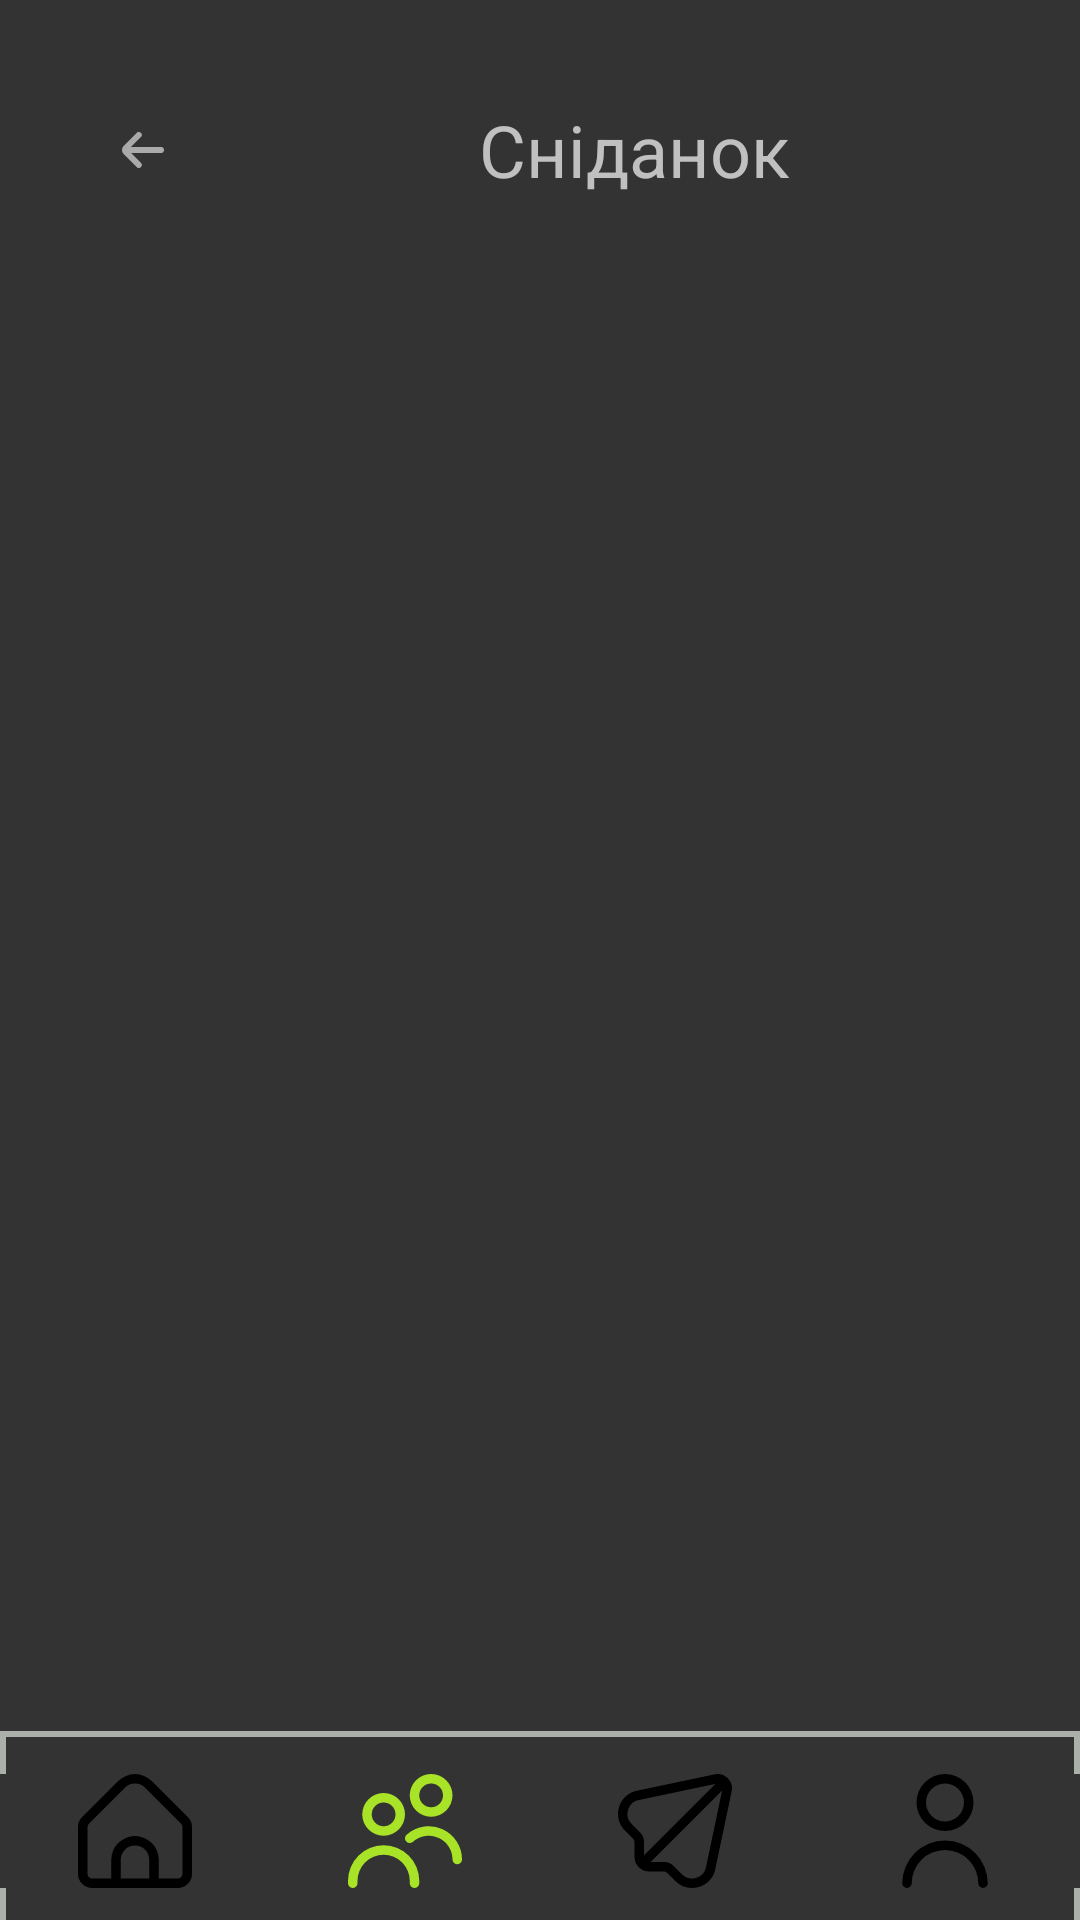

Named icons in this screenshot (1080*1920) and their centers, (x,y):
back buttom: (143,150)
free font home: (135,1831)
user: (945,1831)
users font select: (405,1831)
